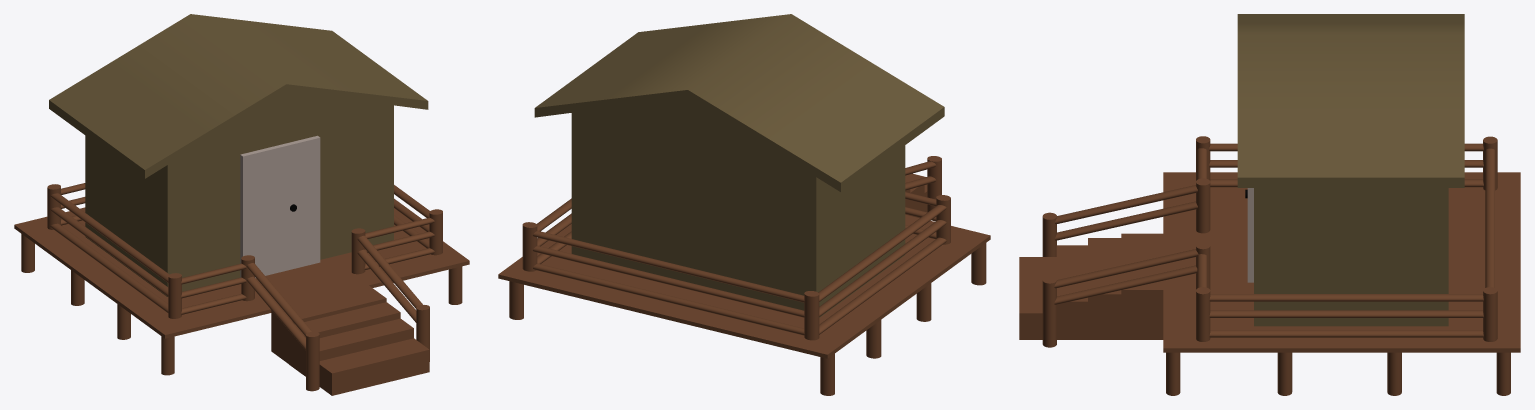
File: _ouse.fbx
3 views of the same model, side by side, from view 1: azimuth 30°, elevation 25°; view 2: azimuth 150°, elevation 25°; view 3: azimuth 270°, elevation 25° (orthographic). The views are drawn at different scales.
Parts seen in each view (by area): view 1: pCylinder24; view 2: pCylinder24; view 3: pCylinder24.
Part boxes in pixels (x1,y1,x2,y2): pCylinder24: (14,14,469,395); pCylinder24: (498,14,990,395); pCylinder24: (1019,14,1520,395).
Size of the model in its own units: 148 by 108 by 178.
